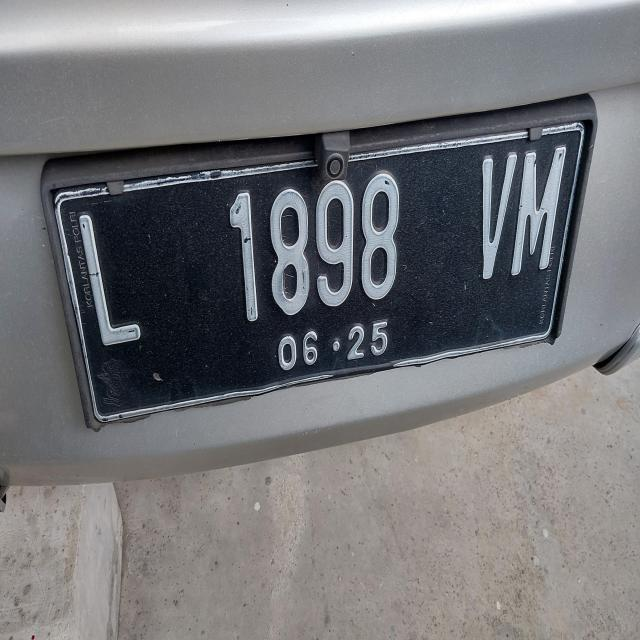1: (218, 194, 266, 328)
8: (358, 171, 405, 306), (268, 188, 315, 320)
9: (314, 178, 358, 318)
L: (70, 207, 146, 362)
M: (510, 140, 566, 286)
V: (479, 152, 517, 288)
